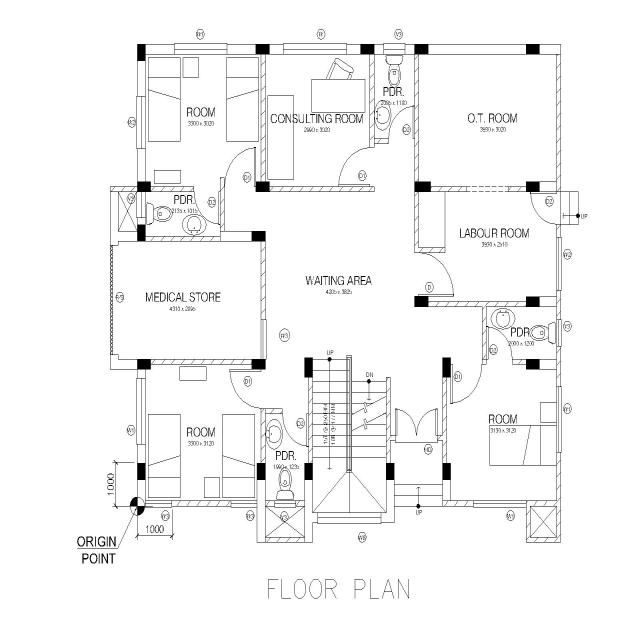Column: (440, 354, 452, 382), (255, 460, 267, 483), (413, 179, 432, 193), (251, 356, 267, 372), (412, 294, 430, 308), (524, 357, 542, 371), (136, 460, 147, 482), (525, 179, 541, 194), (525, 294, 541, 309), (384, 462, 396, 482), (254, 42, 271, 56), (441, 460, 452, 481), (304, 356, 314, 379), (136, 180, 152, 194), (136, 358, 152, 372), (304, 461, 314, 483), (524, 43, 542, 55), (414, 42, 429, 56), (255, 180, 271, 193), (136, 43, 146, 63), (136, 223, 146, 243), (359, 43, 375, 55), (251, 230, 267, 242)
Door: (393, 433, 438, 443), (258, 366, 266, 410), (223, 177, 256, 187), (414, 250, 420, 296), (485, 356, 512, 366), (368, 146, 374, 188), (280, 406, 310, 414), (386, 136, 414, 144), (192, 187, 220, 195), (556, 189, 562, 225), (449, 362, 483, 368)
Staircase: (312, 352, 388, 524)
Ventilator: (383, 42, 405, 56), (136, 188, 145, 222)
Window: (317, 510, 383, 526), (280, 42, 348, 56), (174, 41, 228, 57), (555, 384, 564, 454), (555, 234, 564, 292), (472, 499, 527, 508), (143, 499, 173, 510), (260, 316, 267, 360), (230, 500, 256, 510), (272, 499, 297, 508), (556, 318, 562, 347)
